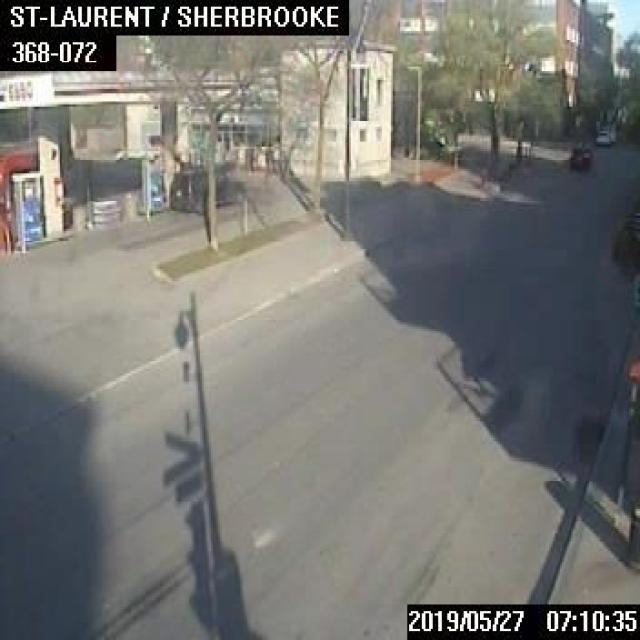vehicle: (169, 167, 244, 211), (568, 142, 594, 167), (593, 128, 610, 144)
